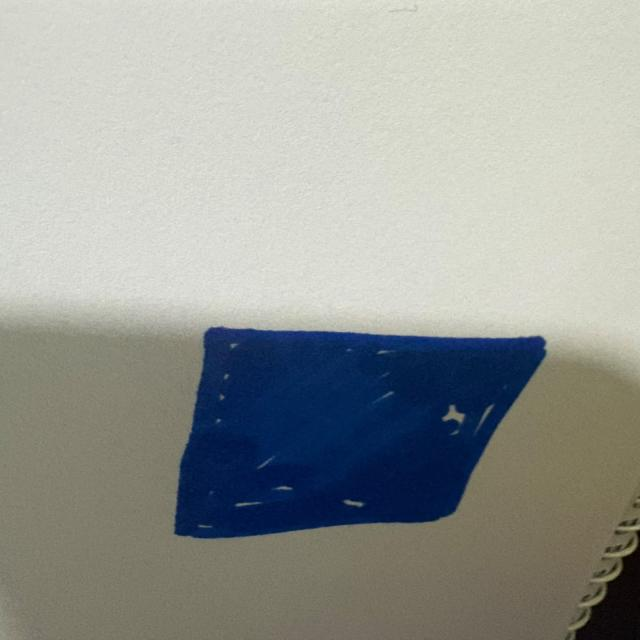Square: (174, 327, 546, 538)
